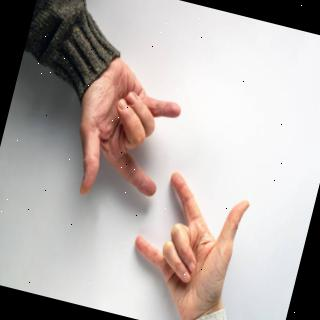I Love You: (55, 68, 184, 220), (126, 178, 263, 314)
